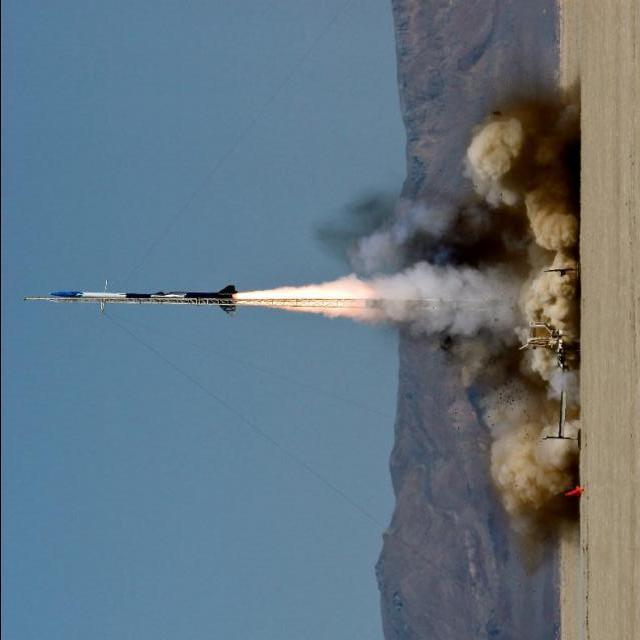missile: (50, 283, 243, 314)
